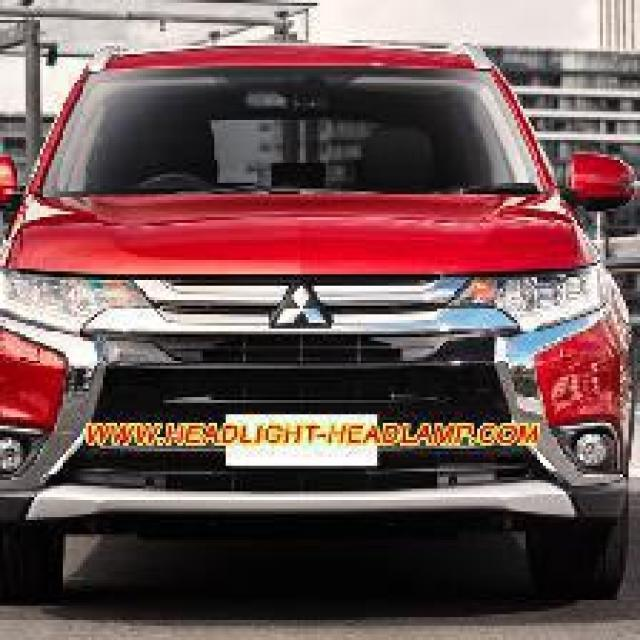damaged: (508, 360, 628, 434)
